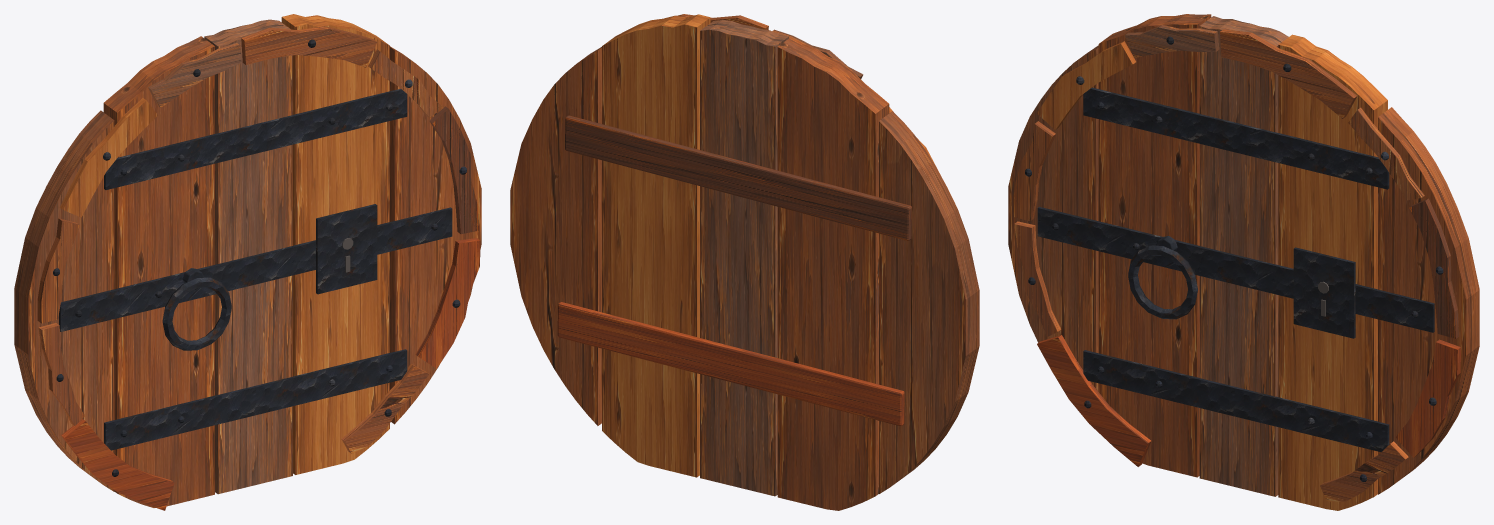
Rendered from door_loot.glb.
The picture shows the model from 3 angles, left to right: view 1: azimuth 30°, elevation 25°; view 2: azimuth 150°, elevation 25°; view 3: azimuth 330°, elevation 25°; orthographic projection.
Parts seen in each view (by area): view 1: model; view 2: model; view 3: model.
Boxes of the visible parts, x1,y1,x2,y2 form: model: [14, 14, 481, 510]; model: [510, 14, 979, 510]; model: [1008, 14, 1479, 510].
Bounding box in the file's own units: 1.52 × 1.46 × 0.1589.
10 materials, 9 textured.
